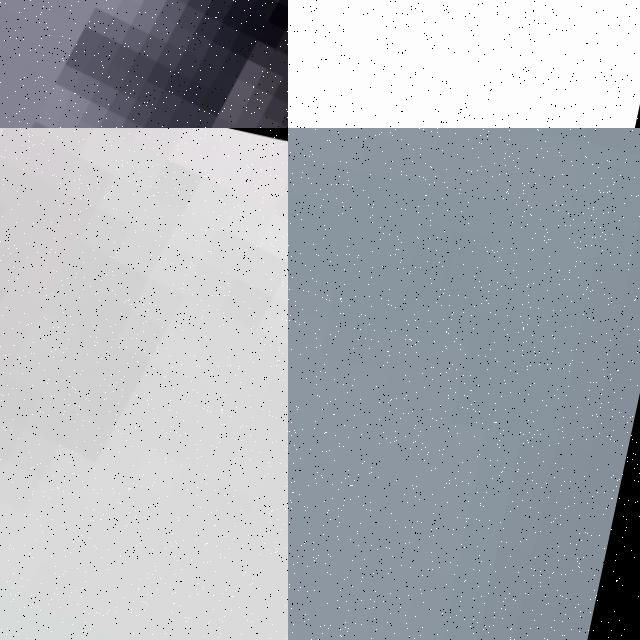0: (0, 0, 288, 128)
drone: (0, 128, 288, 640)
